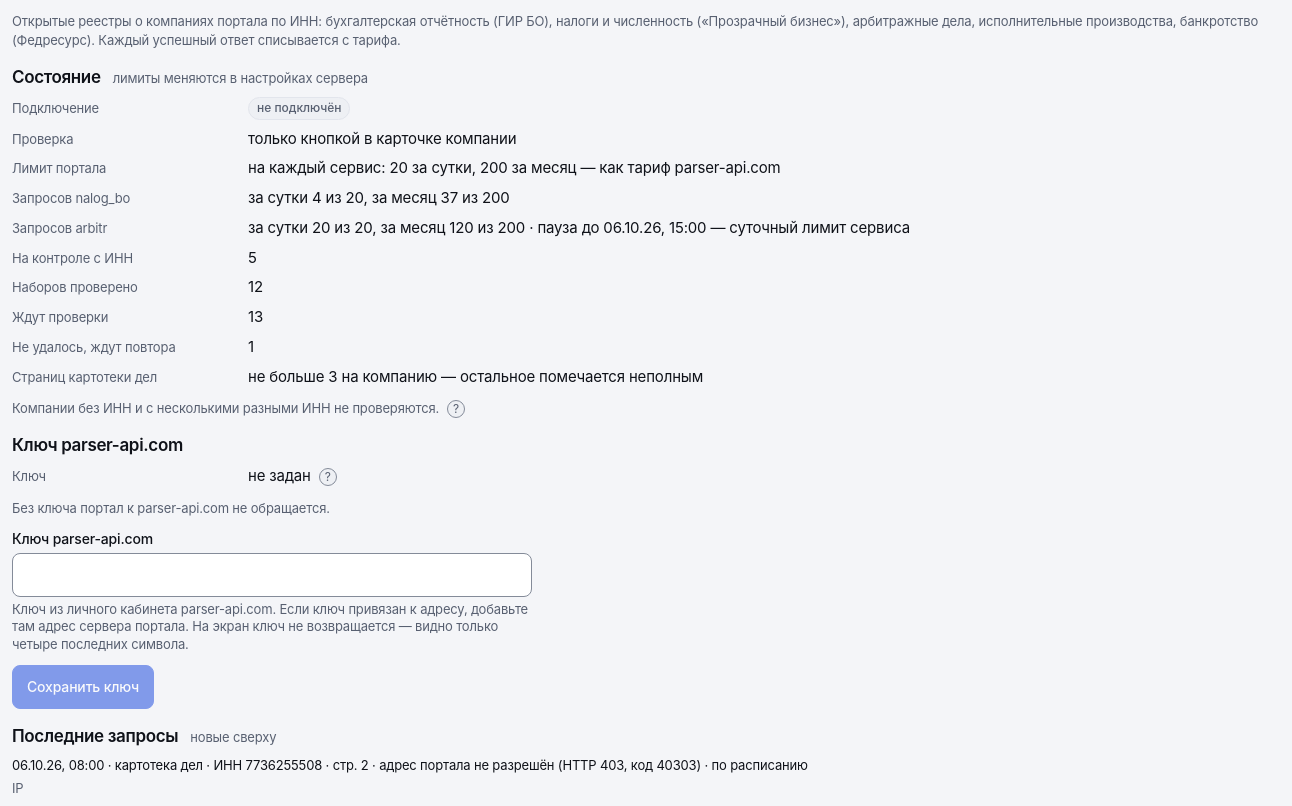
it: страница parser-api.com › сохранение ключа: поле очищается, ключ не возвращается, тост не говорит «принят»
Type "parser-test-secret-4c1d" into the password field labelled "Ключ parser-api.com" at (272,575), box [12,553,532,597]
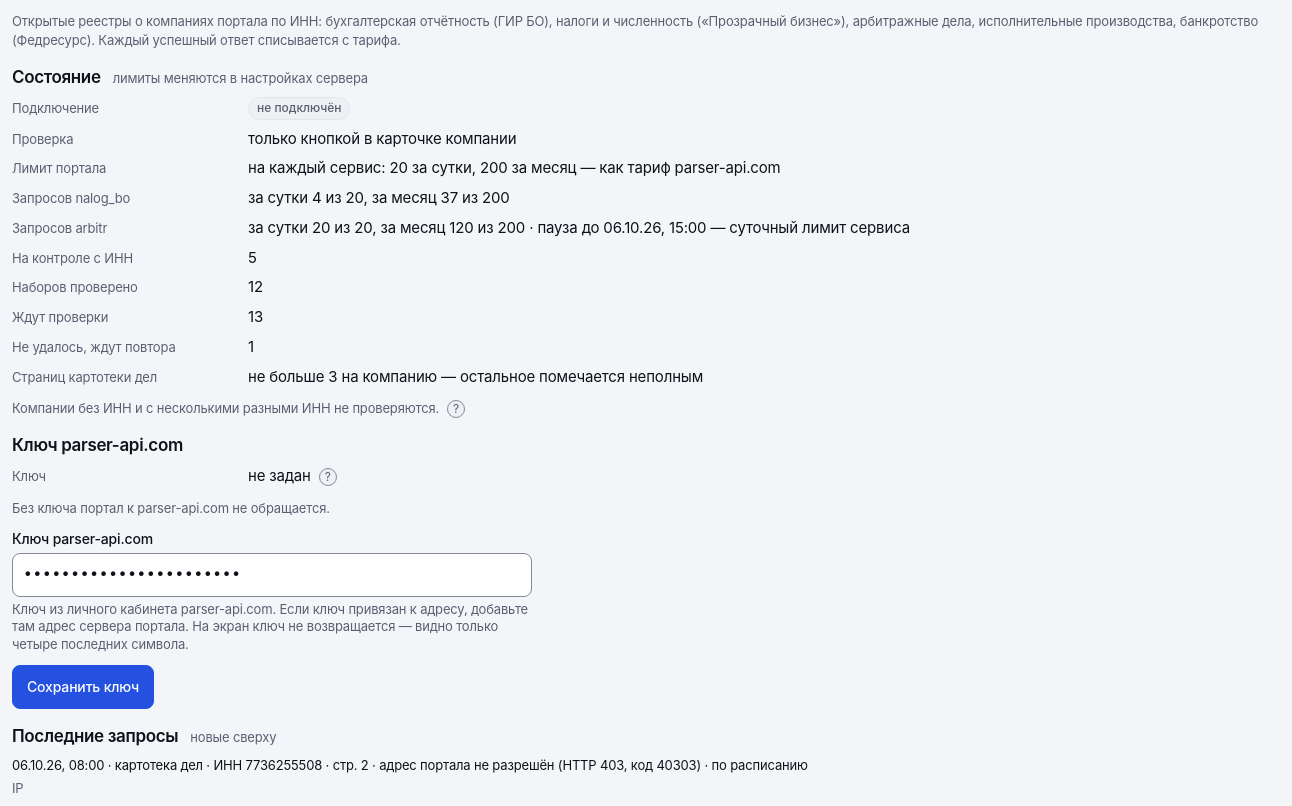
Click the button "Сохранить ключ" at (83,687), box [12,665,154,709]
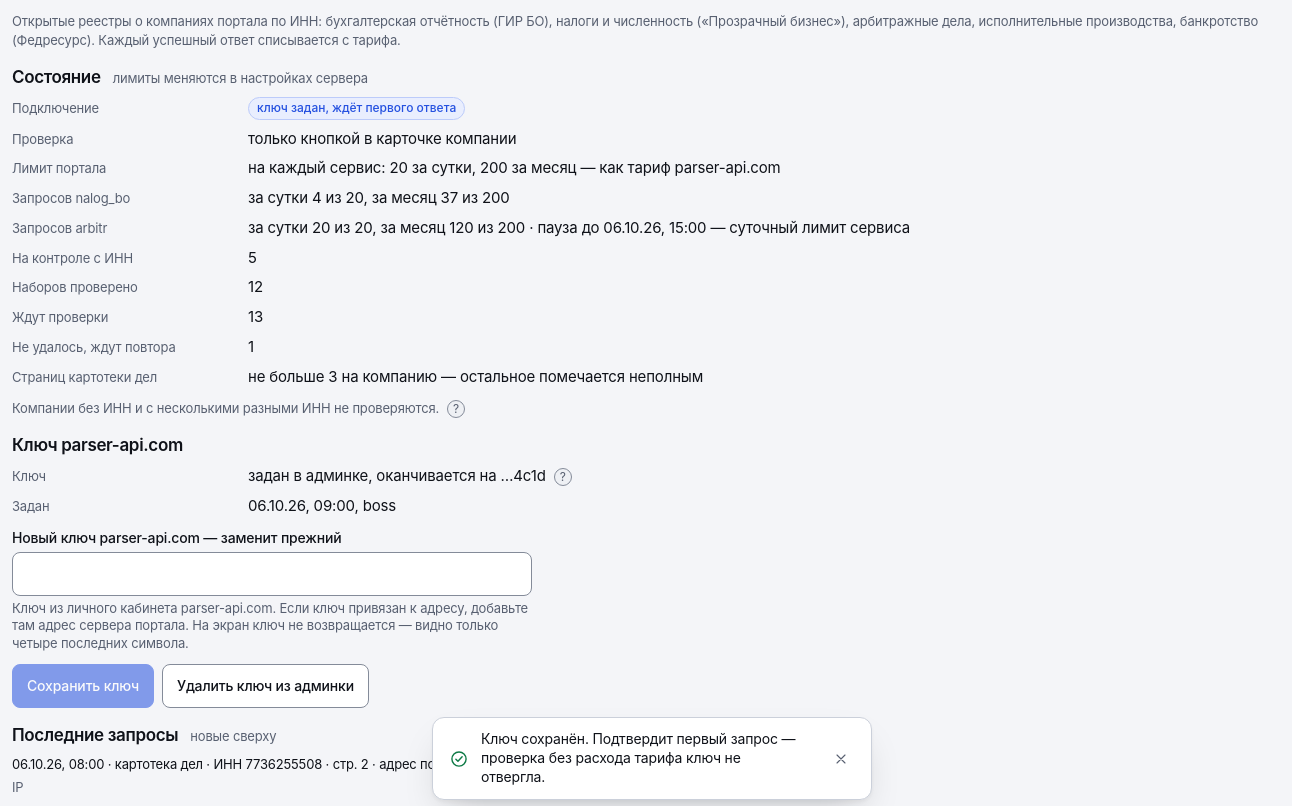
Expected: the text "Ключ сохранён. Подтвердит первый запрос" is shown, [481,730,795,785]
Expected: the text "задан в админке, оканчивается на …4c1d" is shown, [248,466,546,485]
Expected: the password field labelled "Новый ключ parser-api.com — заменит прежний" is empty, [12,552,532,596]
